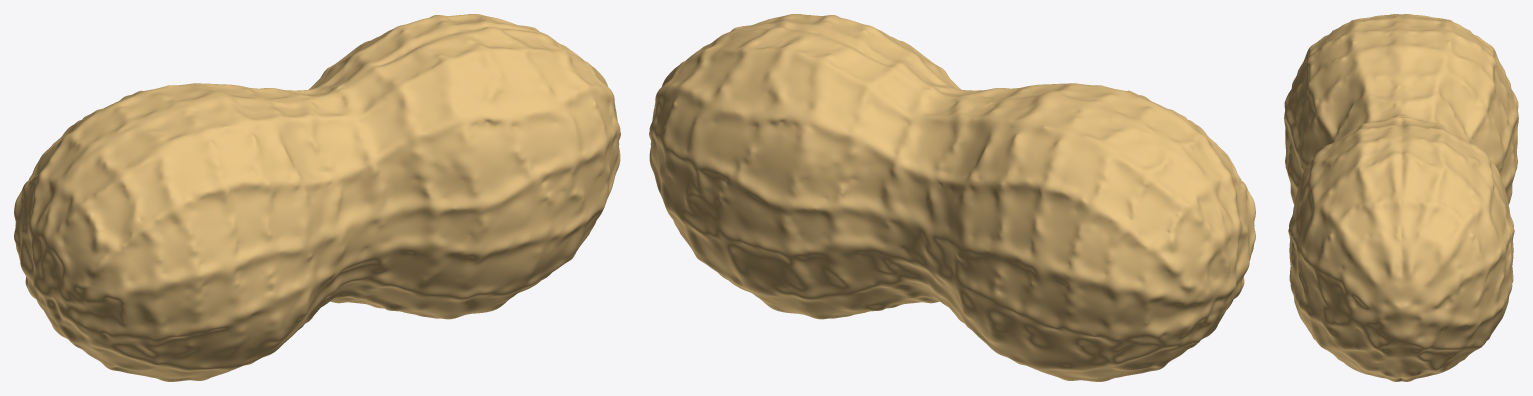
The model's file is Peanut Healing.fbx.
3 views of the same model, side by side, from view 1: azimuth 30°, elevation 25°; view 2: azimuth 150°, elevation 25°; view 3: azimuth 270°, elevation 25° (orthographic). The views are drawn at different scales.
Parts seen in each view (by area): view 1: SketchfabPeanut; view 2: SketchfabPeanut; view 3: SketchfabPeanut.
Part boxes in pixels (bbox=[...]): SketchfabPeanut: bbox=[14, 14, 620, 381]; SketchfabPeanut: bbox=[649, 14, 1255, 381]; SketchfabPeanut: bbox=[1284, 14, 1518, 381].
Bounding box in the file's own units: 7191 × 3247 × 2985.
